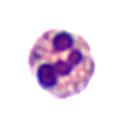neutrophil: (29, 27, 100, 101)
